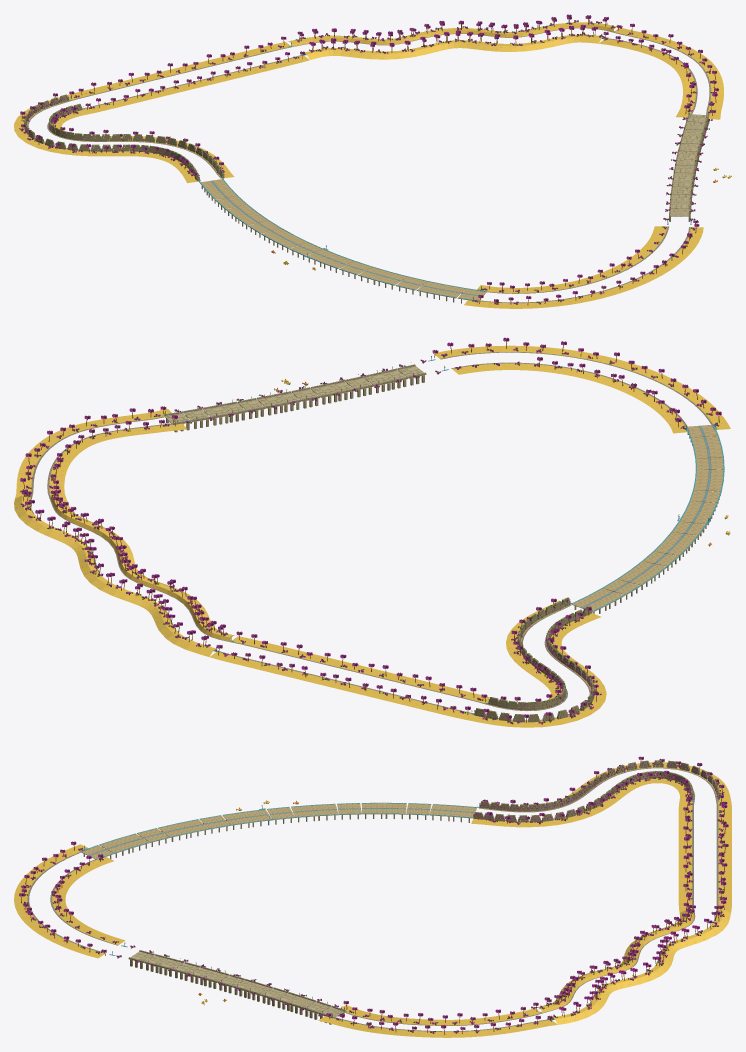
The model's file is painted.glb.
The picture shows the model from 3 angles, top to bottom: view 1: azimuth 30°, elevation 25°; view 2: azimuth 150°, elevation 25°; view 3: azimuth 270°, elevation 25°; orthographic projection. The views are drawn at different scales.
Parts seen in each view (by area): view 1: DI_STATIC_DI_MAT_jungle, DI_STATIC_DI_MAT_concrete, DI_STATIC_DI_MAT_jungle-card, DI_STATIC_DI_MAT_metal; view 2: DI_STATIC_DI_MAT_jungle, DI_STATIC_DI_MAT_concrete, DI_STATIC_DI_MAT_jungle-card, DI_STATIC_DI_MAT_metal; view 3: DI_STATIC_DI_MAT_jungle, DI_STATIC_DI_MAT_concrete, DI_STATIC_DI_MAT_jungle-card, DI_STATIC_DI_MAT_metal.
Boxes of the visible parts, <box> form: DI_STATIC_DI_MAT_jungle: <box>14,18,723,308</box>; DI_STATIC_DI_MAT_concrete: <box>24,28,711,303</box>; DI_STATIC_DI_MAT_jungle-card: <box>20,14,718,304</box>; DI_STATIC_DI_MAT_metal: <box>68,31,708,300</box>; DI_STATIC_DI_MAT_jungle: <box>14,341,730,727</box>; DI_STATIC_DI_MAT_concrete: <box>30,352,724,722</box>; DI_STATIC_DI_MAT_jungle-card: <box>20,337,721,724</box>; DI_STATIC_DI_MAT_metal: <box>164,357,716,714</box>; DI_STATIC_DI_MAT_jungle: <box>14,760,731,1037</box>; DI_STATIC_DI_MAT_concrete: <box>27,760,719,1031</box>; DI_STATIC_DI_MAT_jungle-card: <box>19,756,728,1033</box>; DI_STATIC_DI_MAT_metal: <box>84,796,718,1020</box>.
Bounding box in the file's own units: 782 × 39.99 × 809.
6 materials, 6 textured.
